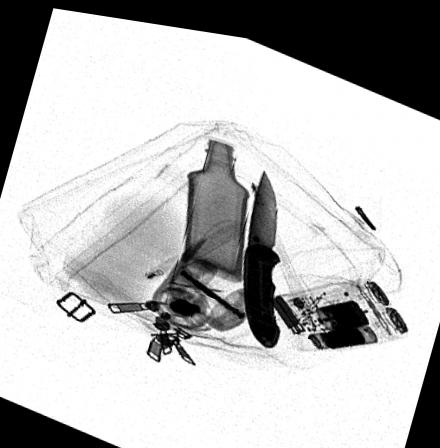Knife: (241, 158, 281, 339)
